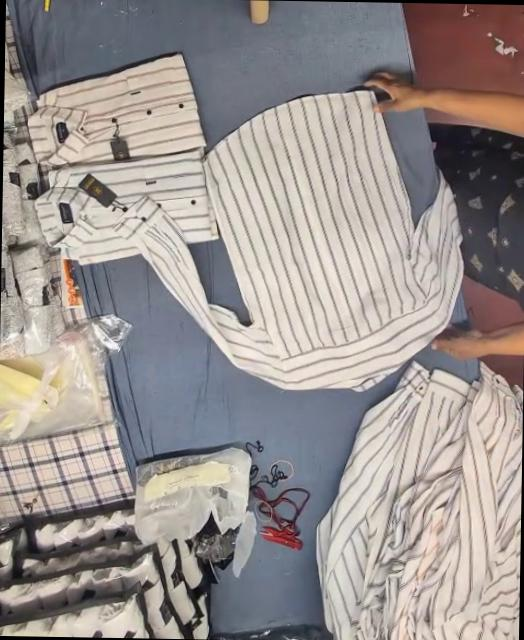new-garment: (122, 91, 459, 387)
